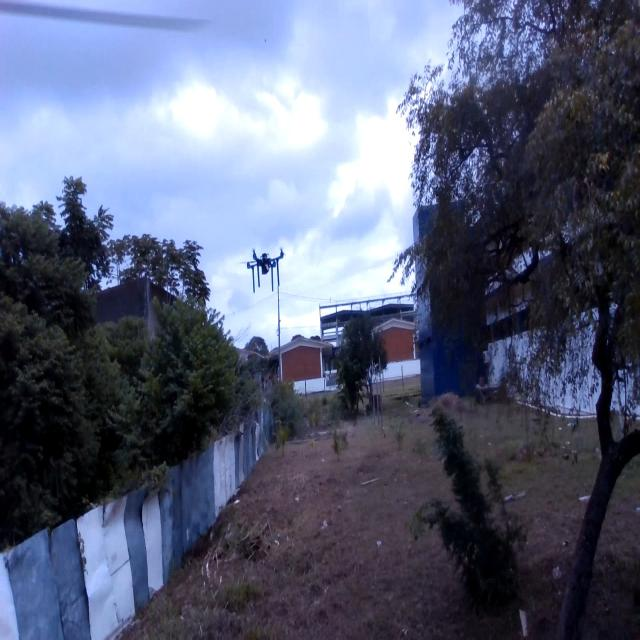-uav-: (238, 234, 292, 295)
